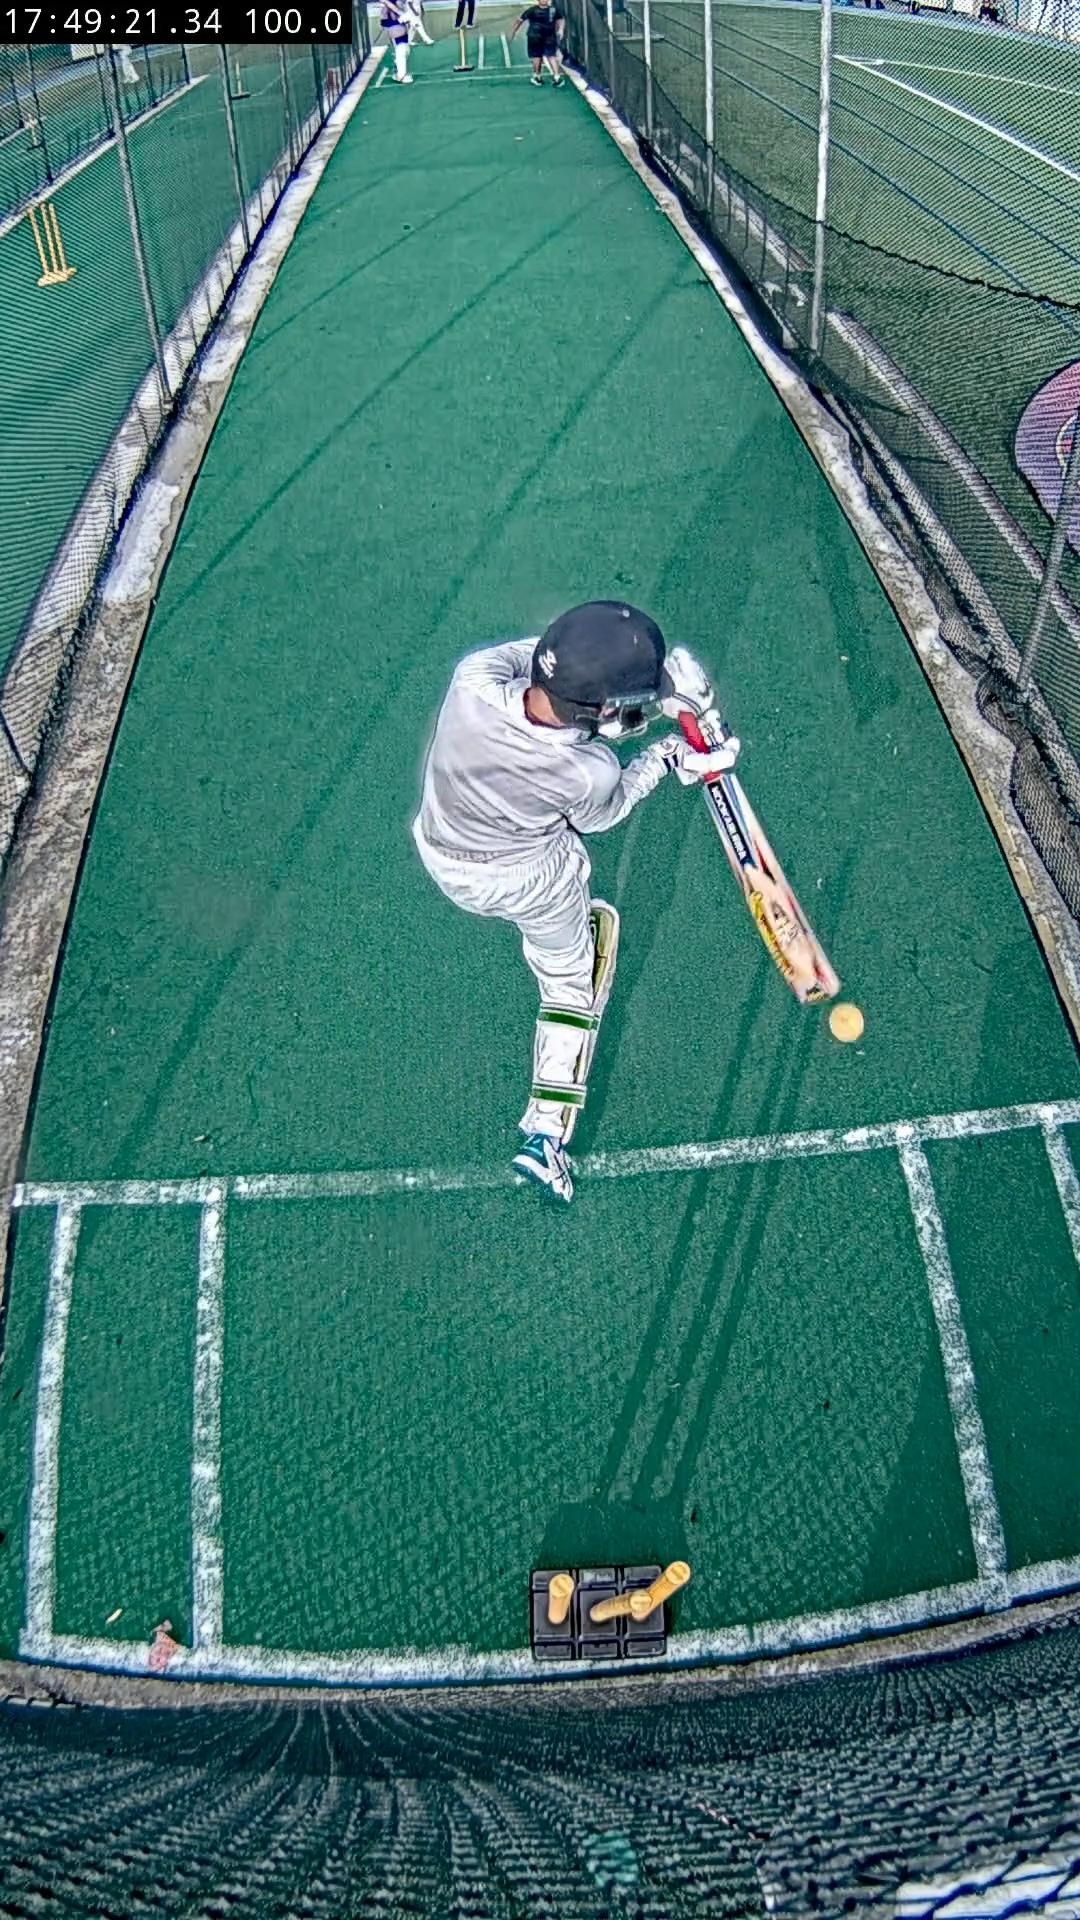ball: (828, 1001, 866, 1043)
bat: (705, 773, 840, 1004)
gloves: (653, 735, 738, 783), (661, 645, 716, 716)
helmet: (533, 600, 671, 738)
pads: (592, 899, 618, 1014)
stumps: (533, 1564, 690, 1662)
